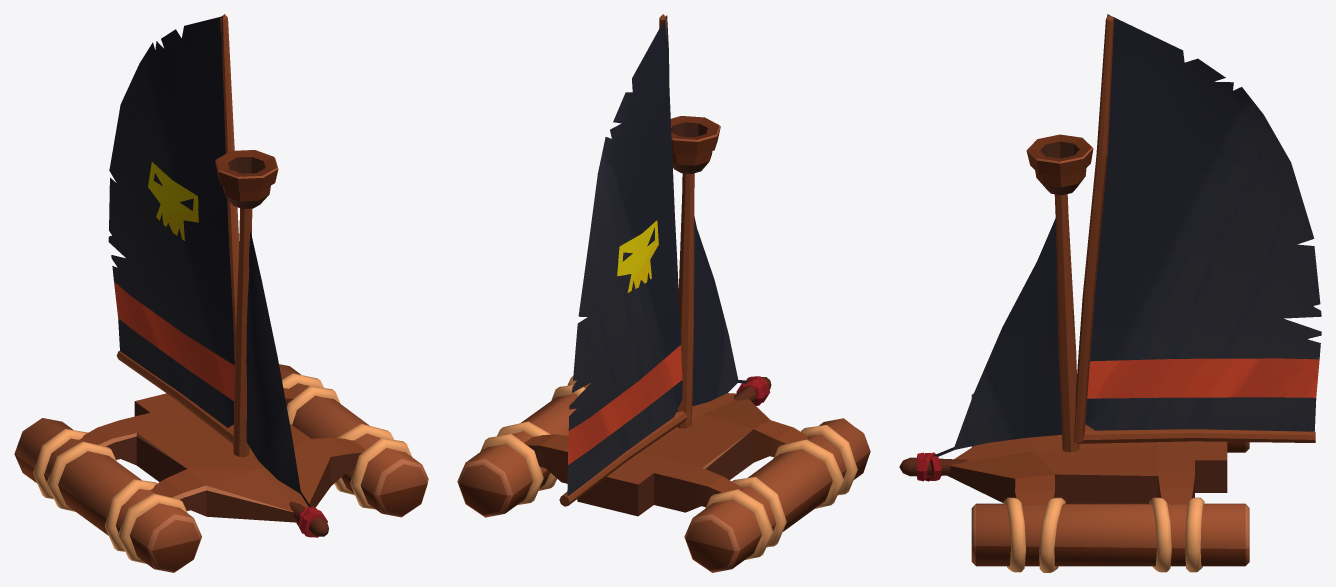
File: Ship_Rowboat.fbx
3 renders of one model, left to right at view 1: azimuth 30°, elevation 25°; view 2: azimuth 150°, elevation 25°; view 3: azimuth 270°, elevation 25°, orthographic. The views are drawn at different scales.
Visible parts, largest first — view 1: Color_Cloth_01, Color_01, Color_02, Color_03, Color_05, Color_04; view 2: Color_Cloth_01, Color_01, Color_02, Color_03, Color_05; view 3: Color_Cloth_01, Color_03, Color_01, Color_05, Color_04.
Boxes of the visible parts, <box> form: Color_Cloth_01: <box>108,16,311,508</box>; Color_01: <box>79,388,365,537</box>; Color_02: <box>14,418,201,572</box>; Color_03: <box>279,364,428,517</box>; Color_05: <box>116,150,278,457</box>; Color_04: <box>220,14,239,361</box>; Color_Cloth_01: <box>567,15,748,496</box>; Color_01: <box>524,376,808,516</box>; Color_02: <box>684,418,870,572</box>; Color_03: <box>457,376,590,517</box>; Color_05: <box>559,116,720,506</box>; Color_Cloth_01: <box>932,14,1321,456</box>; Color_03: <box>971,497,1249,572</box>; Color_01: <box>899,424,1227,504</box>; Color_05: <box>1026,134,1315,452</box>; Color_04: <box>1074,14,1114,442</box>.
Bounding box in the file's own units: 15.81 × 25.08 × 19.17.
